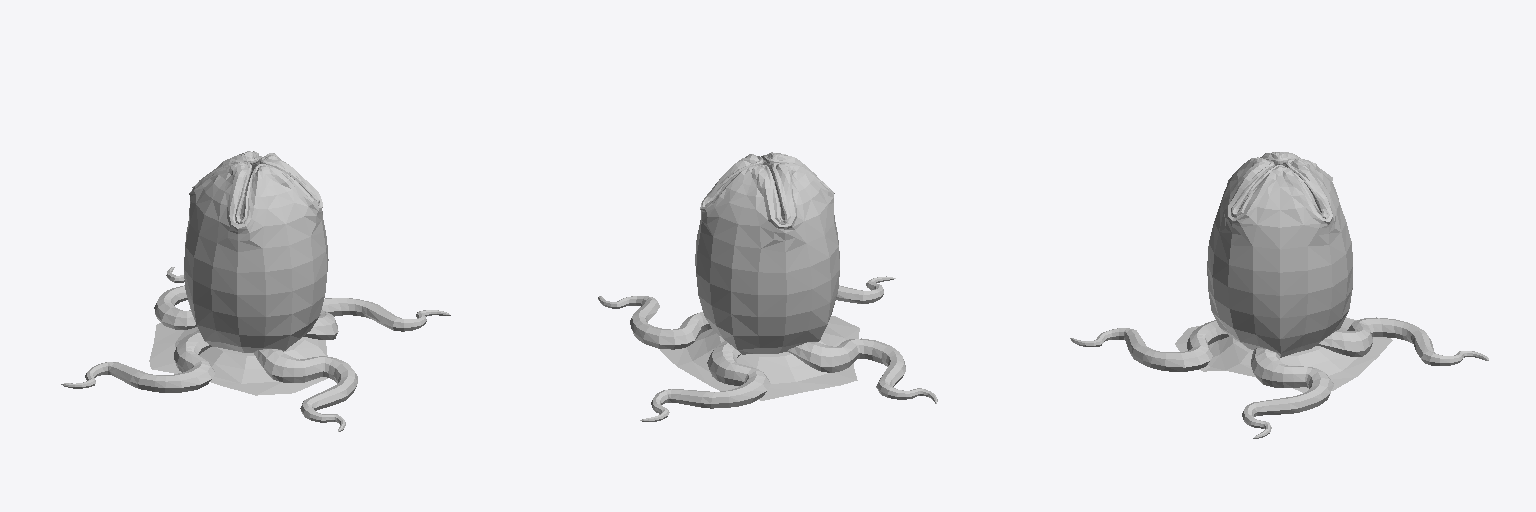
File: Alien_Egg.obj
3 views of the same model, side by side, from view 1: azimuth 30°, elevation 25°; view 2: azimuth 150°, elevation 25°; view 3: azimuth 270°, elevation 25° (orthographic).
Parts seen in each view (by area): view 1: AlienEgg; view 2: AlienEgg; view 3: AlienEgg.
Boxes of the visible parts, <box> form: AlienEgg: <box>61,151,450,431</box>; AlienEgg: <box>598,152,937,421</box>; AlienEgg: <box>1070,152,1488,438</box>.
Size of the model in its own units: 1.98 by 1.01 by 1.98.